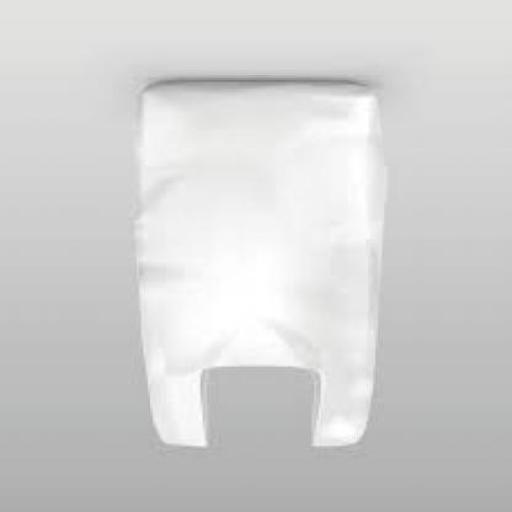plastic: (137, 84, 389, 450)
